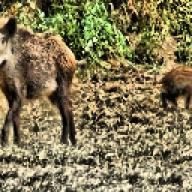boar: (0, 14, 78, 146)
